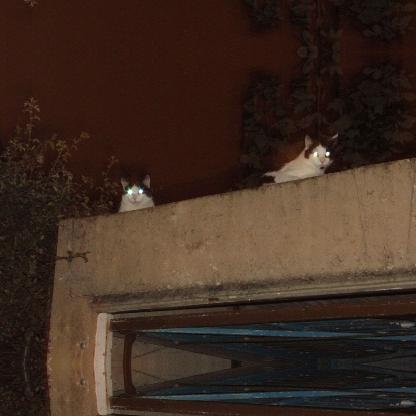Cat: (265, 129, 337, 185), (118, 174, 154, 212)
